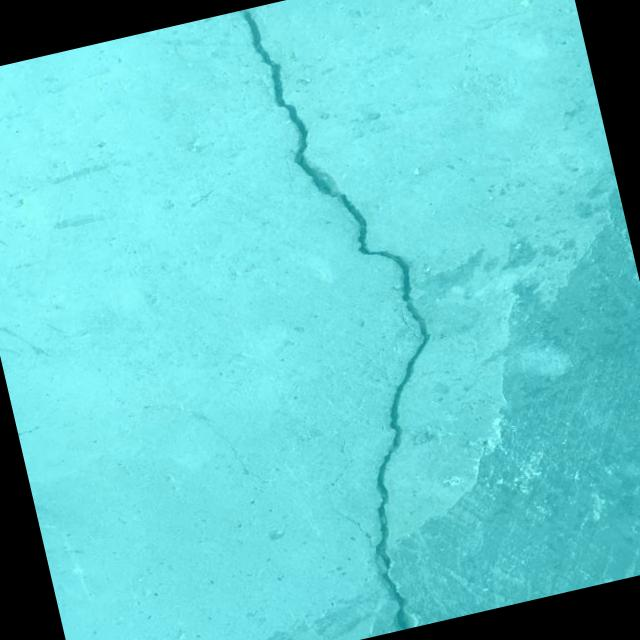crack: (217, 0, 554, 639), (142, 382, 268, 505), (306, 394, 384, 491)
